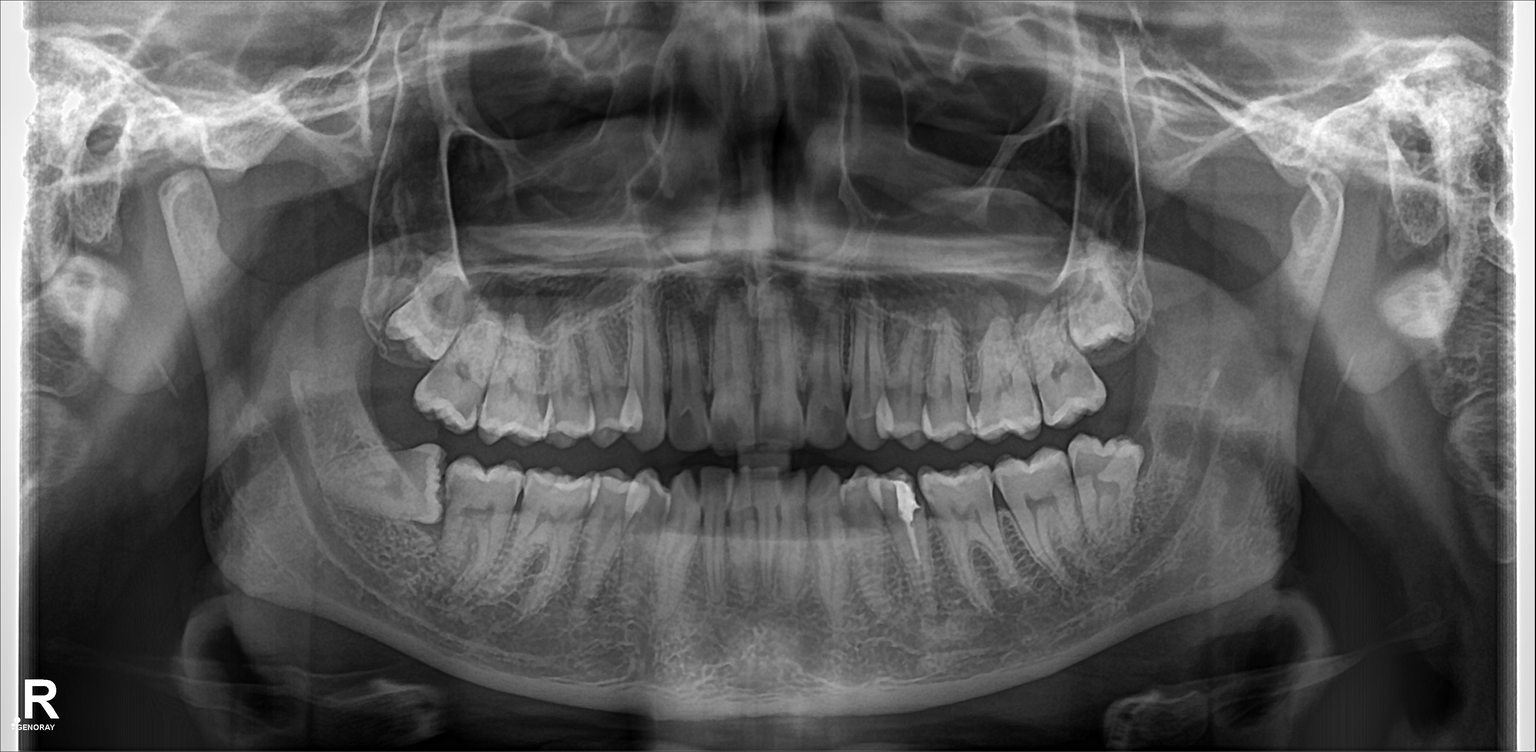Dental Caries: (672, 413, 705, 442)
Endodontically Treated Tooth: (872, 467, 928, 626)
Impacted Third Molar: (346, 443, 444, 526), (1073, 441, 1141, 535), (391, 290, 466, 349), (1065, 285, 1134, 347)
